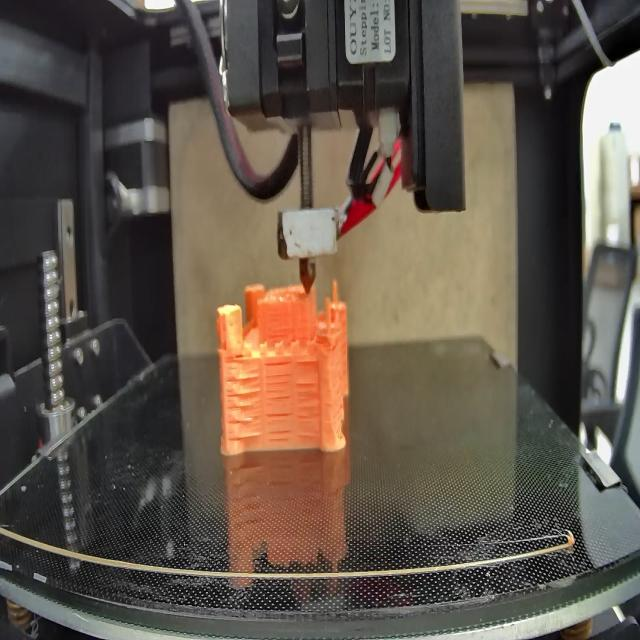cracks: (225, 375, 262, 440), (296, 382, 320, 441), (264, 360, 292, 405), (264, 410, 291, 446), (267, 324, 291, 341), (296, 355, 320, 367), (231, 347, 249, 362)
